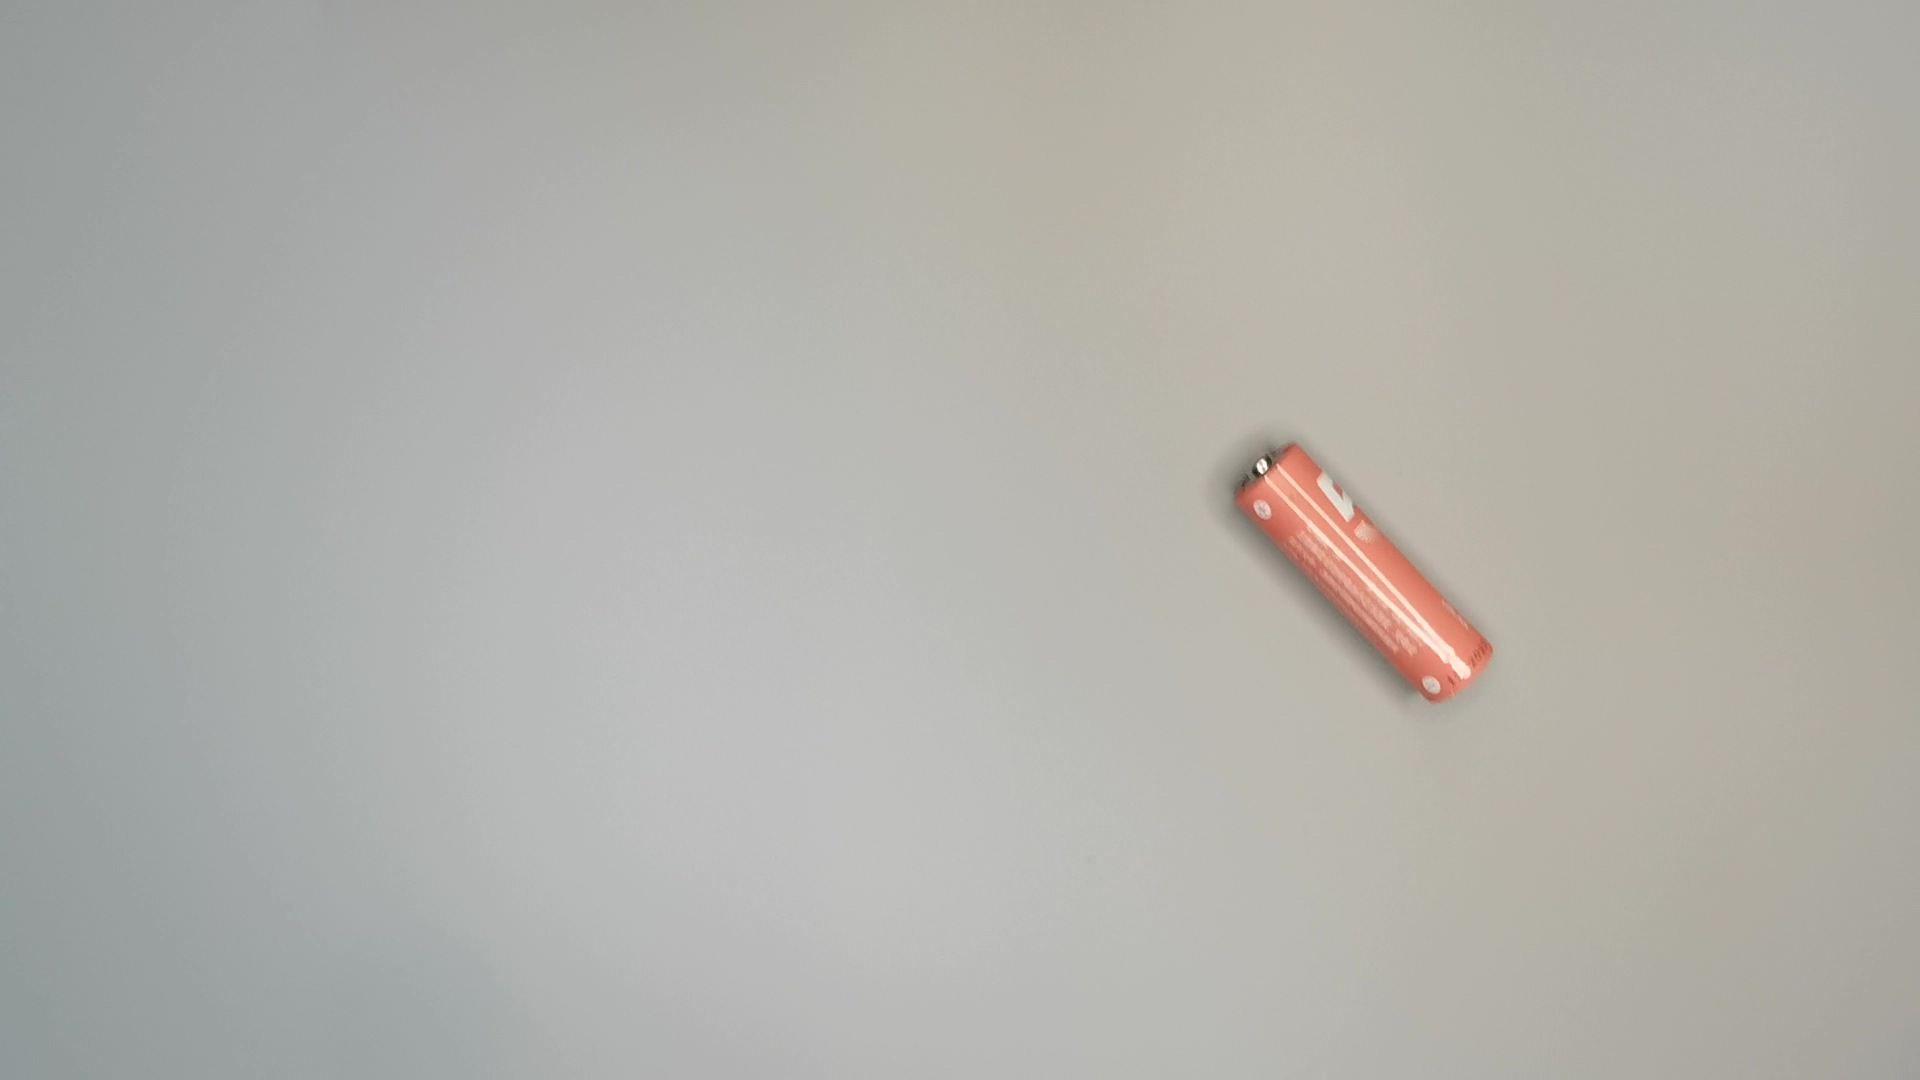battery: (1230, 435, 1501, 708)
